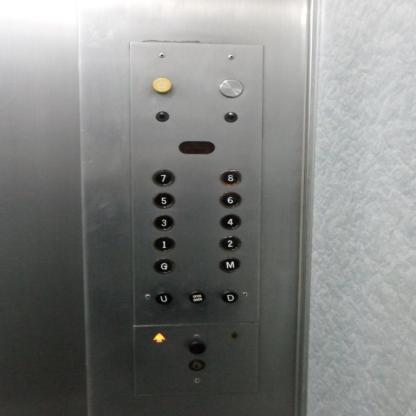1: (151, 235, 176, 253)
2: (216, 234, 242, 251)
3: (151, 214, 176, 231)
4: (218, 212, 243, 230)
5: (152, 192, 177, 209)
6: (217, 191, 242, 208)
7: (151, 169, 176, 186)
8: (218, 168, 243, 186)
D: (218, 290, 239, 304)
G: (151, 256, 177, 274)
M: (216, 256, 242, 273)
U: (153, 291, 173, 306)
alarm: (149, 76, 173, 94)
down: (223, 326, 244, 341)
empty: (216, 77, 244, 99), (186, 340, 207, 355)
keyhole: (186, 358, 205, 371)
text_open hold: (186, 290, 207, 304)
up: (150, 330, 170, 346)
